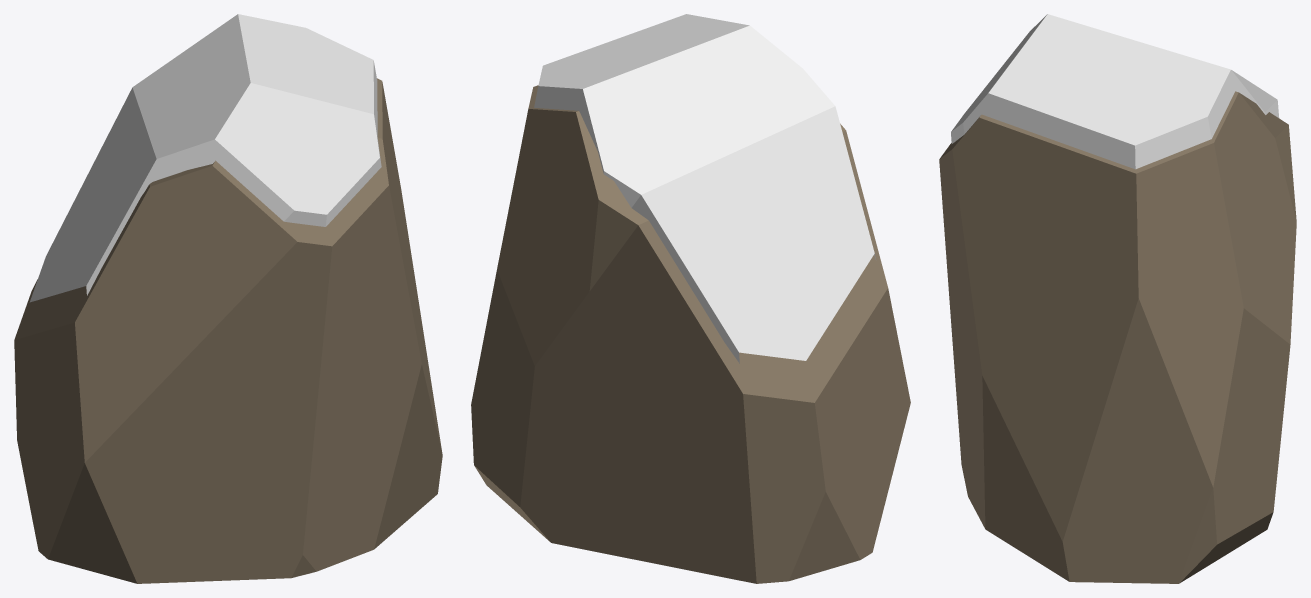
The model's file is Stone_5_snow_brown.fbx.
3 renders of one model, left to right at view 1: azimuth 30°, elevation 25°; view 2: azimuth 150°, elevation 25°; view 3: azimuth 270°, elevation 25°, orthographic. The views are drawn at different scales.
Visible parts, largest first — view 1: Stone_5_snow_brown; view 2: Stone_5_snow_brown; view 3: Stone_5_snow_brown.
Part boxes in pixels (x1=…): Stone_5_snow_brown: x1=14, y1=14, x2=442, y2=583; Stone_5_snow_brown: x1=471, y1=14, x2=910, y2=583; Stone_5_snow_brown: x1=939, y1=14, x2=1296, y2=583.
Size of the model in its own units: 83.72 by 102 by 70.29.
